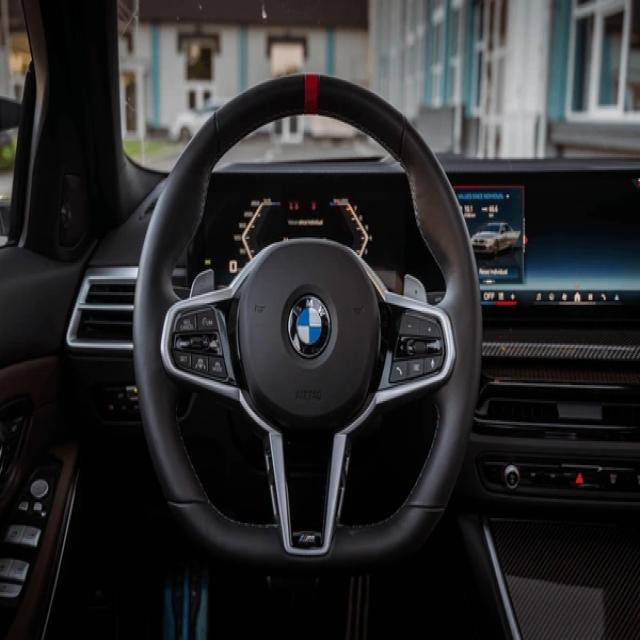bmw: (284, 294, 332, 354)
